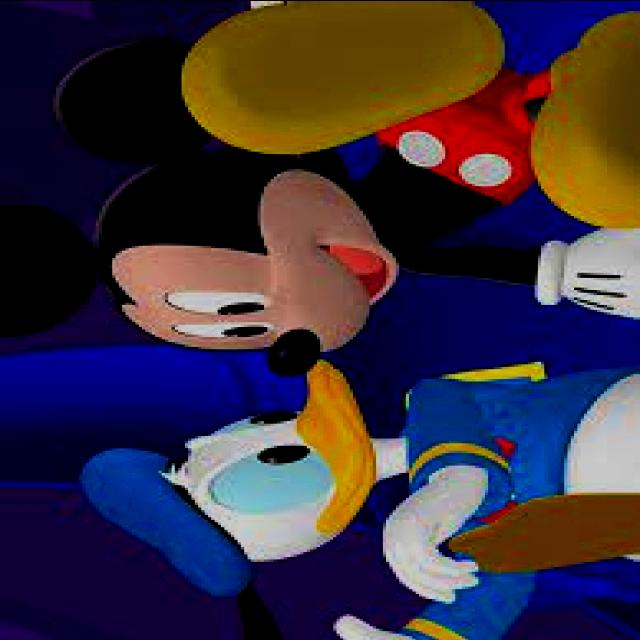mickey: (1, 0, 640, 368)
